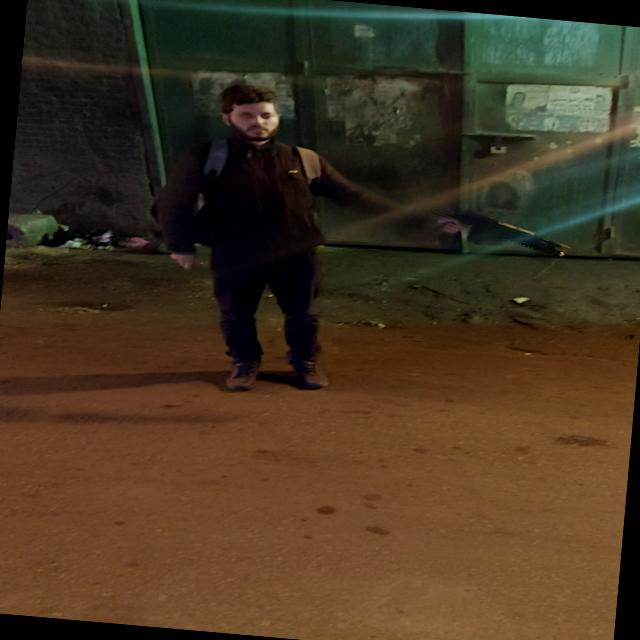long weapon: (426, 197, 570, 277)
